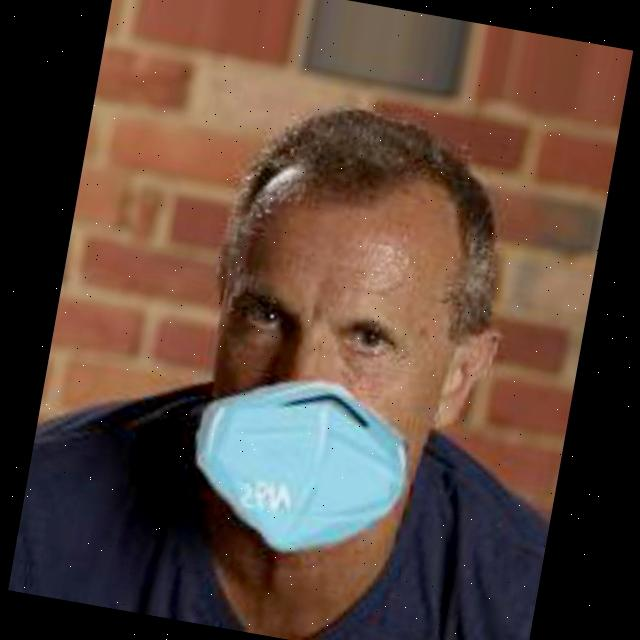suspicion: (138, 56, 536, 555)
